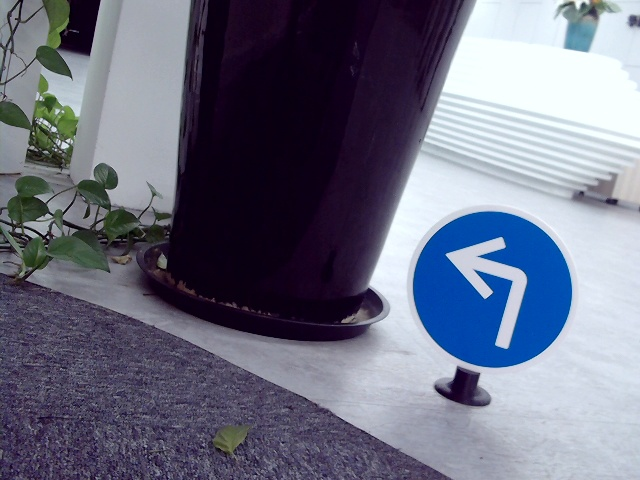turn_left: (446, 230, 539, 344)
